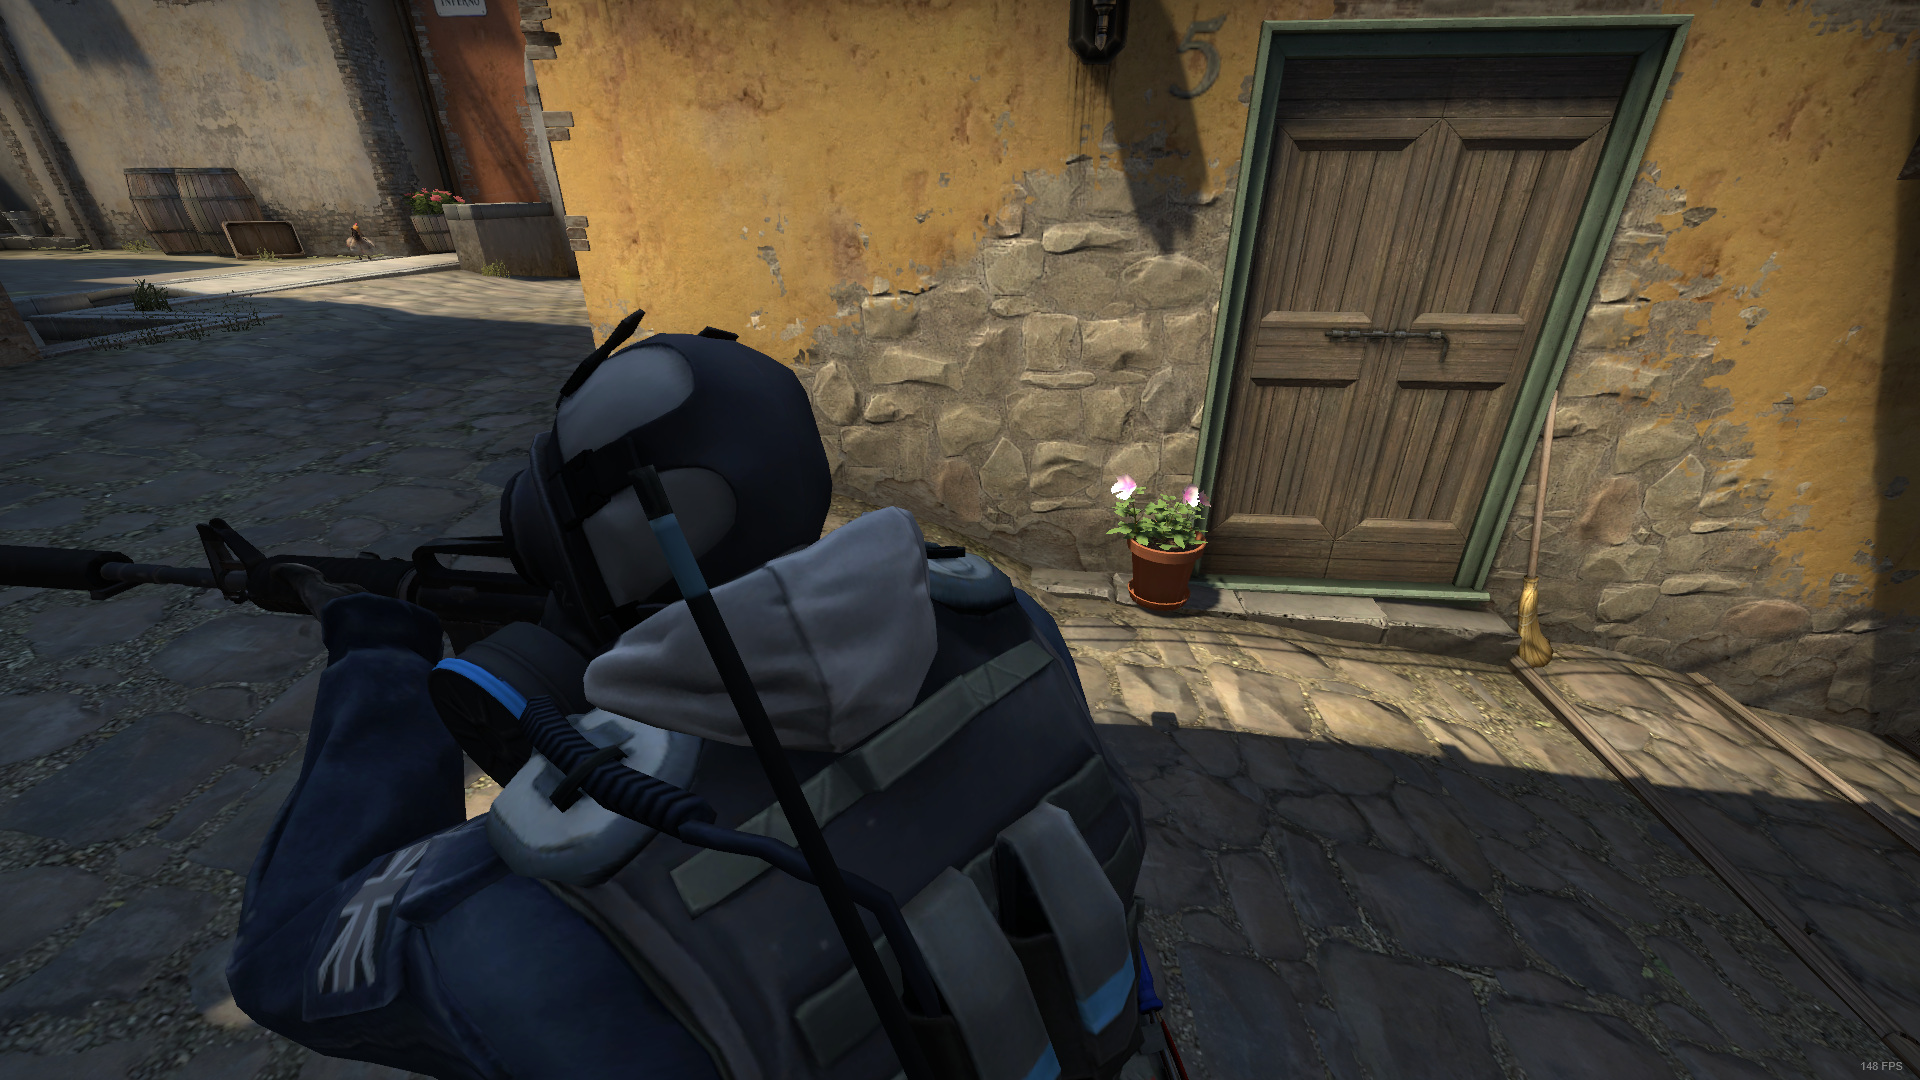ct: (214, 319, 1189, 1080)
